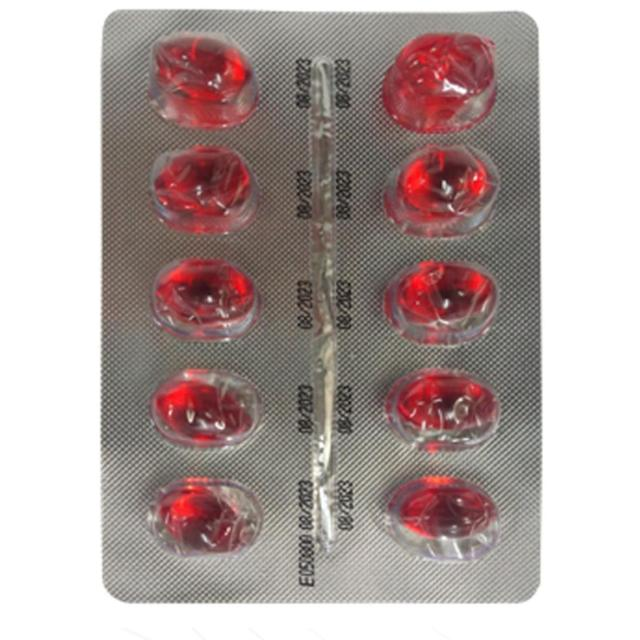blister: (96, 2, 546, 610)
